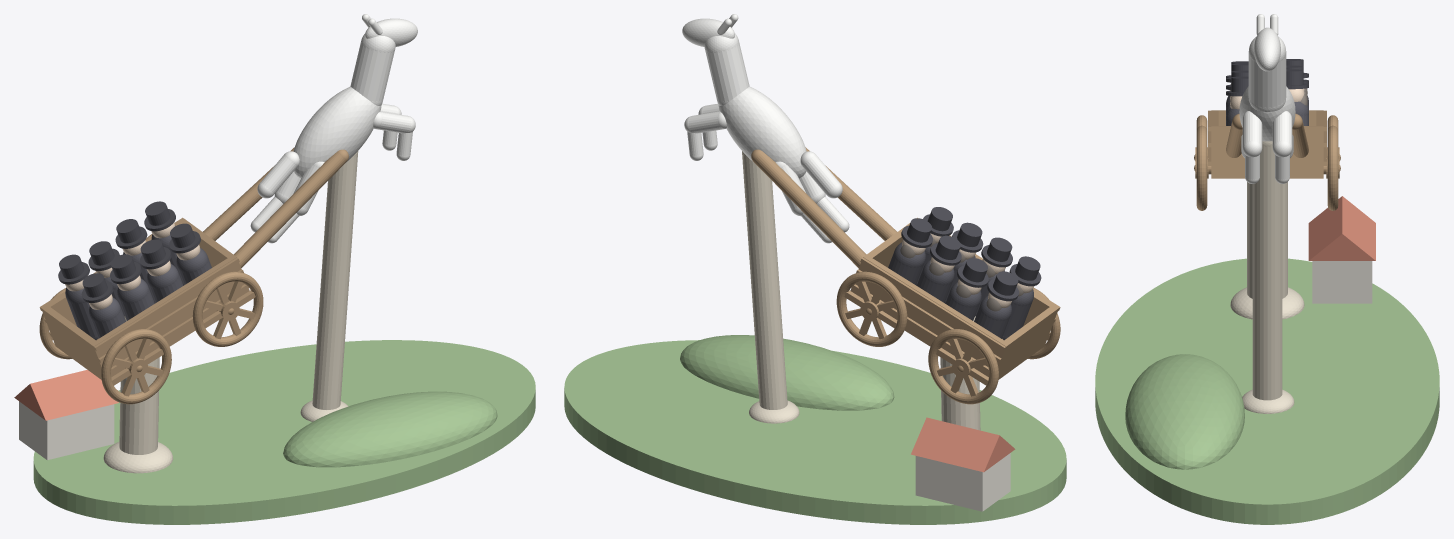
The model's file is flying-wagon.glb.
3 views of the same model, side by side, from view 1: azimuth 30°, elevation 25°; view 2: azimuth 150°, elevation 25°; view 3: azimuth 270°, elevation 25° (orthographic). The views are drawn at different scales.
Parts seen in each view (by area): view 1: base, wood, horse, dust, hat, coat, house, roof, skin; view 2: base, wood, horse, dust, hat, coat, house, roof, skin, beard; view 3: base, dust, wood, horse, roof, house, hat, coat.
Part boxes in pixels (x1,y1,x2,y2): base: (33,340,535,524); wood: (39,147,348,404); horse: (250,14,417,243); dust: (103,151,358,473); hat: (58,201,200,302); coat: (65,225,211,340); house: (19,401,114,460); roof: (14,370,118,420); skin: (65,222,200,309); base: (564,335,1066,524); wood: (751,147,1060,404); horse: (682,14,849,243); dust: (742,151,980,430); hat: (901,207,1041,301); coat: (888,242,1033,340); house: (915,453,1010,511); roof: (911,417,1015,472); skin: (902,233,1034,307); beard: (900,237,1023,311); base: (1095,258,1439,524); dust: (1230,141,1304,413); wood: (1194,110,1340,210); horse: (1239,14,1295,183); roof: (1308,196,1375,260); house: (1312,261,1372,303); hat: (1226,59,1308,96); coat: (1226,95,1308,125).
Bounding box in the file's own units: 0.156 × 0.1299 × 0.092.
